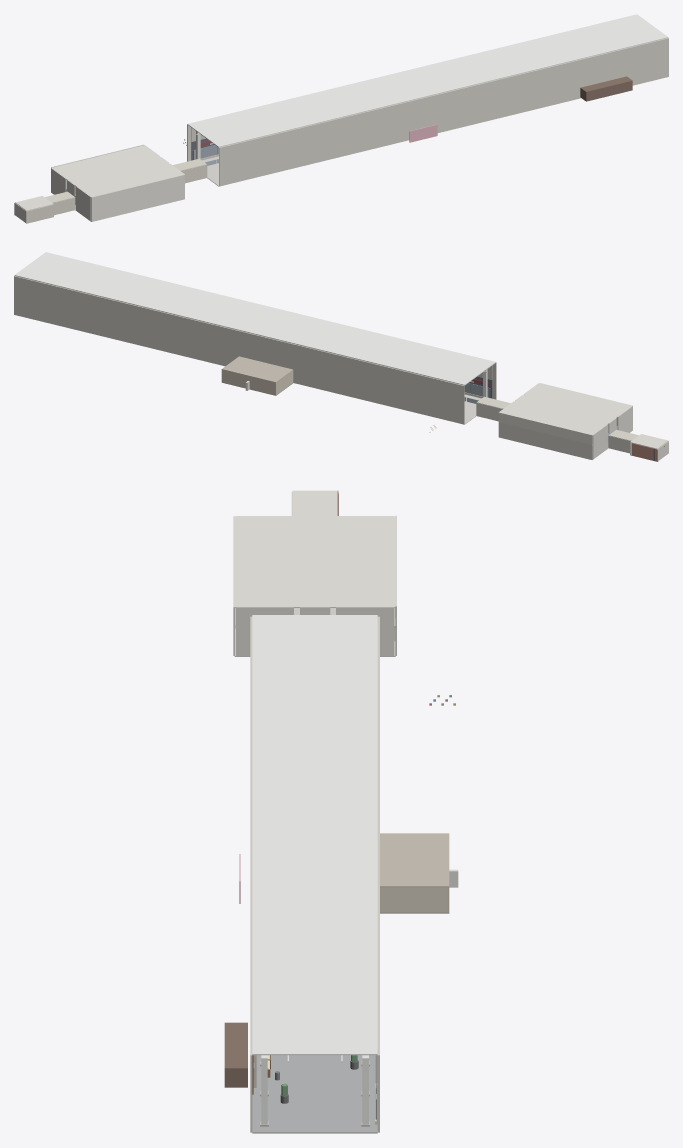
3 views of the same model, one above another, from view 1: azimuth 30°, elevation 25°; view 2: azimuth 150°, elevation 25°; view 3: azimuth 270°, elevation 25° (orthographic). The views are drawn at different scales.
Visible parts, largest first — view 1: S03_wall_s, S03_ceiling, S02_ceiling, S02_south_wall, MOR_interior, S02_west_a, S01_north_wall, ZAY_pinkwall, S01_ceiling, C23_wall_n, S02_west_b; view 2: S03_wall_n, S03_ceiling, S02_ceiling, S02_north_wall, S02_mezz_upperwall, ST_ceiling, ST_wall_back, S02_west_b, S01_brick, S01_ceiling, S02_west_a, C23_wall_s; view 3: S03_ceiling, S02_ceiling, S03_carpet, ST_ceiling, ST_wall_e, MOR_interior, S03_wall_n, S03_wall_s, S01_ceiling, S02_east_b, S02_east_a.
Part boxes in pixels (<box>): S03_wall_s: <box>219,38,668,186</box>; S03_ceiling: <box>187,14,668,147</box>; S02_ceiling: <box>51,145,184,197</box>; S02_south_wall: <box>91,174,184,221</box>; MOR_interior: <box>580,76,632,101</box>; S02_west_a: <box>76,186,91,221</box>; S01_north_wall: <box>26,204,53,223</box>; ZAY_pinkwall: <box>409,124,437,142</box>; S01_ceiling: <box>15,196,53,210</box>; C23_wall_n: <box>181,164,207,182</box>; S02_west_b: <box>51,168,66,194</box>; S03_wall_n: <box>14,276,464,424</box>; S03_ceiling: <box>14,252,495,385</box>; S02_ceiling: <box>500,383,632,435</box>; S02_north_wall: <box>498,414,592,459</box>; S02_mezz_upperwall: <box>498,412,592,444</box>; ST_ceiling: <box>221,356,292,382</box>; ST_wall_back: <box>222,369,276,394</box>; S02_west_b: <box>592,424,607,459</box>; S01_brick: <box>631,443,657,461</box>; S01_ceiling: <box>630,434,668,448</box>; S02_west_a: <box>617,406,632,432</box>; C23_wall_s: <box>476,402,502,420</box>; S03_ceiling: <box>252,615,377,1055</box>; S02_ceiling: <box>234,516,395,607</box>; S03_carpet: <box>252,1055,377,1132</box>; ST_ceiling: <box>380,833,449,887</box>; ST_wall_e: <box>380,887,447,912</box>; MOR_interior: <box>224,1022,247,1087</box>; S03_wall_n: <box>377,616,379,1132</box>; S03_wall_s: <box>250,616,252,1132</box>; S01_ceiling: <box>292,490,337,516</box>; S02_east_b: <box>336,607,394,656</box>; S02_east_a: <box>236,607,293,656</box>.
Size of the model in its own units: 163 by 9.82 by 26.1.
